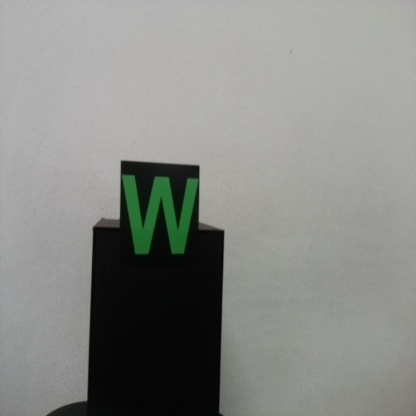id_12: (119, 160, 201, 267)
